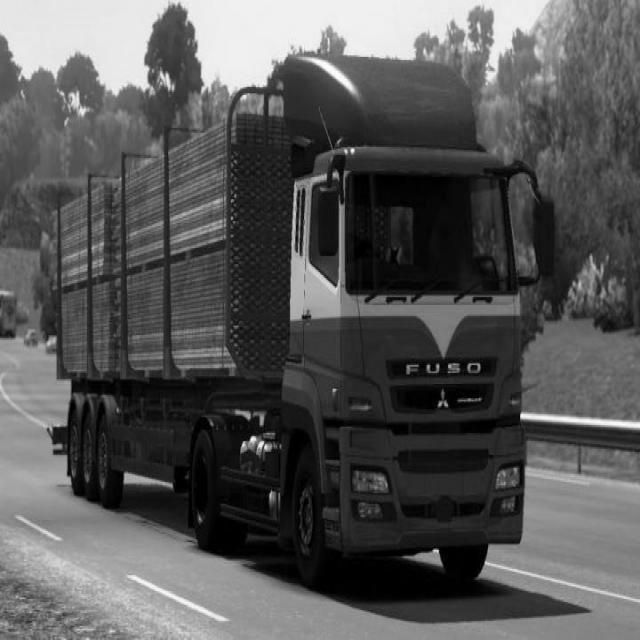truck: (244, 54, 574, 580)
